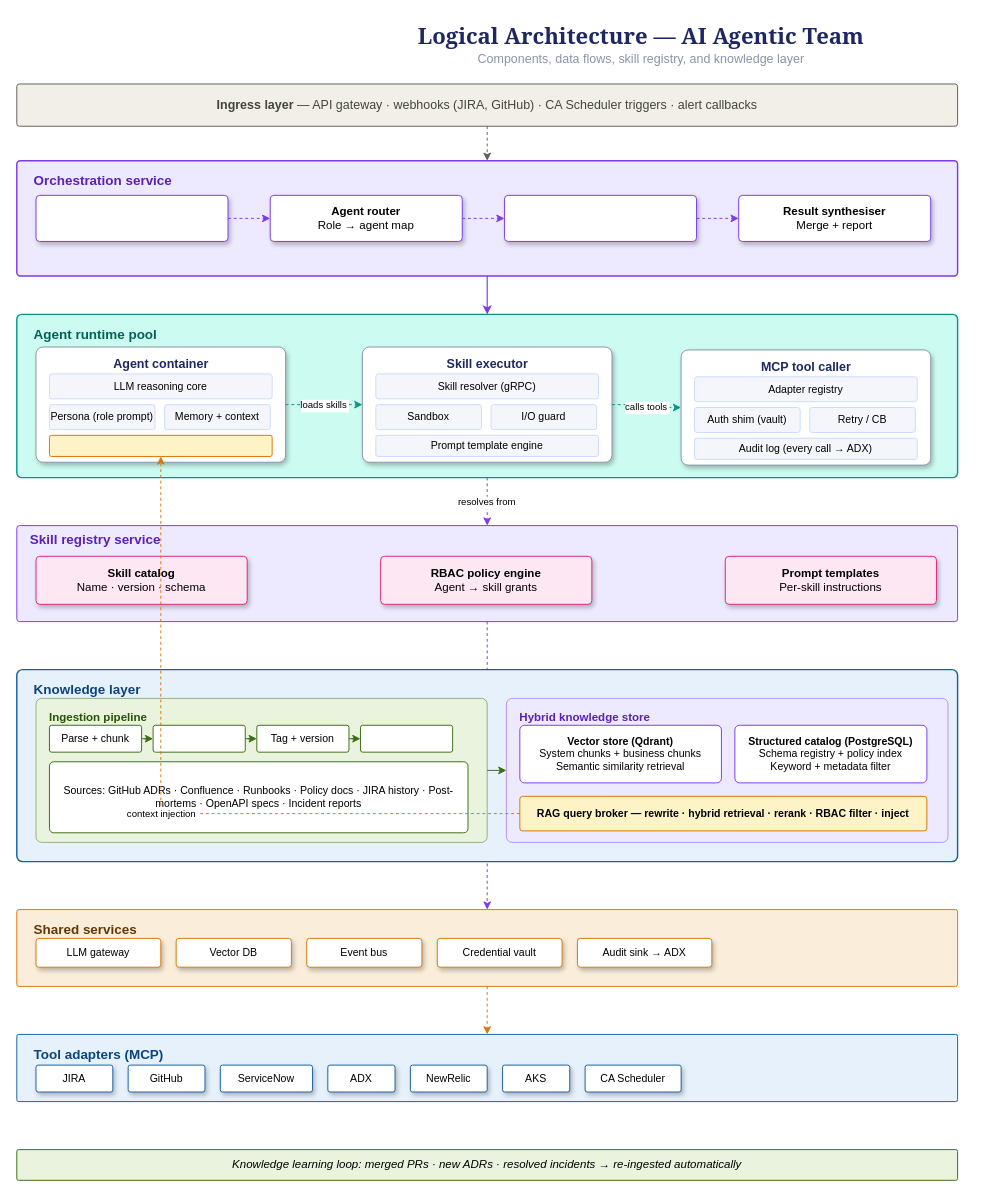
The diagram is 994 pixels wide and 1197 high, and some of its shapes have lost their labels. Here are the shapes that lost their labels. From the top down, the centre of each, then its label:
point 132,219: Task planner DAG builder
point 601,219: State machine Redis-backed lifecycle
point 160,445: Knowledge context (RAG)
point 198,738: Embed (LLM)
point 406,738: Index + store
